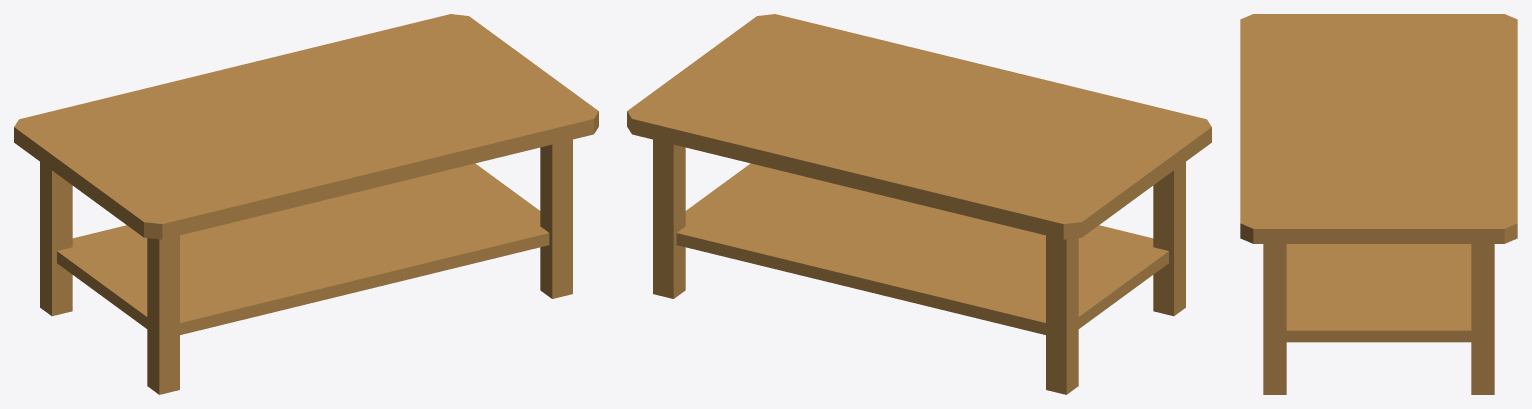
File: SM_LPI_Table_Coffee_01.fbx
3 renders of one model, left to right at view 1: azimuth 30°, elevation 25°; view 2: azimuth 150°, elevation 25°; view 3: azimuth 270°, elevation 25°, orthographic. The views are drawn at different scales.
Visible parts, largest first — view 1: SM_LPI_Table_Coffee_01; view 2: SM_LPI_Table_Coffee_01; view 3: SM_LPI_Table_Coffee_01.
Part boxes in pixels (<box>): SM_LPI_Table_Coffee_01: <box>14,14,598,394</box>; SM_LPI_Table_Coffee_01: <box>627,14,1211,394</box>; SM_LPI_Table_Coffee_01: <box>1240,14,1517,394</box>.
Bounding box in the file's own units: 1.1 × 0.42 × 0.6.
